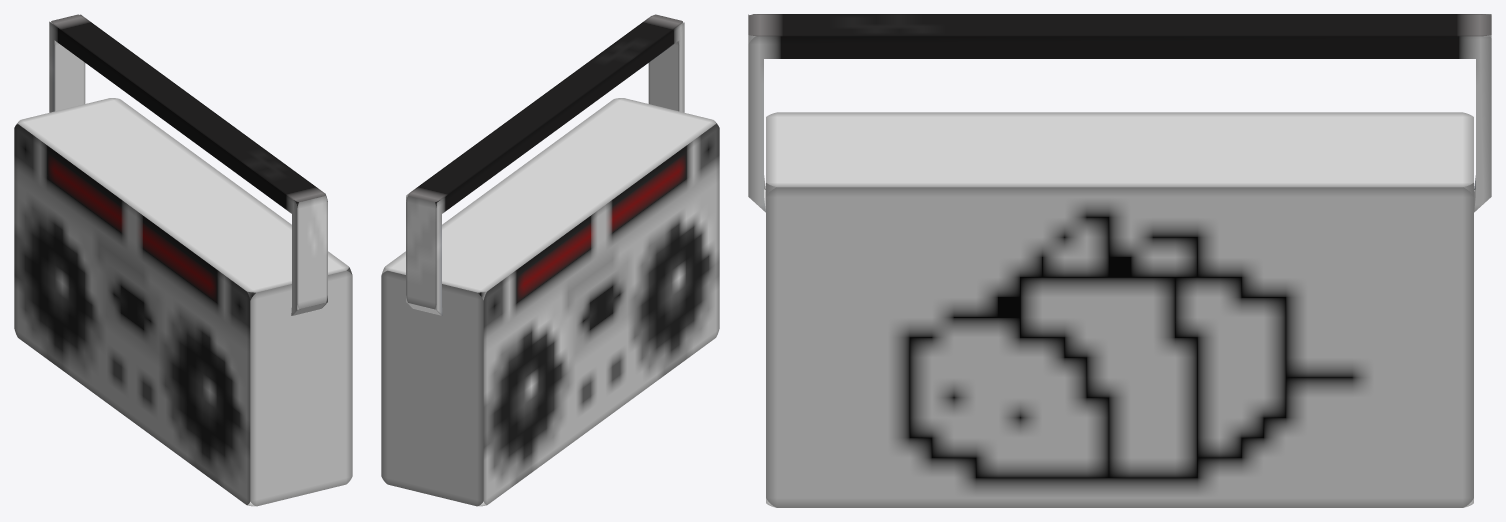
The model's file is Boombox.fbx.
3 views of the same model, side by side, from view 1: azimuth 30°, elevation 25°; view 2: azimuth 150°, elevation 25°; view 3: azimuth 270°, elevation 25° (orthographic). The views are drawn at different scales.
Visible parts, largest first — view 1: base, handle; view 2: base, handle; view 3: base, handle.
Boxes of the visible parts, x1,y1,x2,y2 form: base: (14, 98, 352, 506); handle: (49, 14, 327, 315); base: (381, 98, 719, 506); handle: (406, 14, 684, 315); base: (766, 112, 1473, 507); handle: (748, 14, 1491, 212).
Bounding box in the file's own units: 6.25 × 17.5 × 26.25.
Materials: 2 (2 with a texture image).
